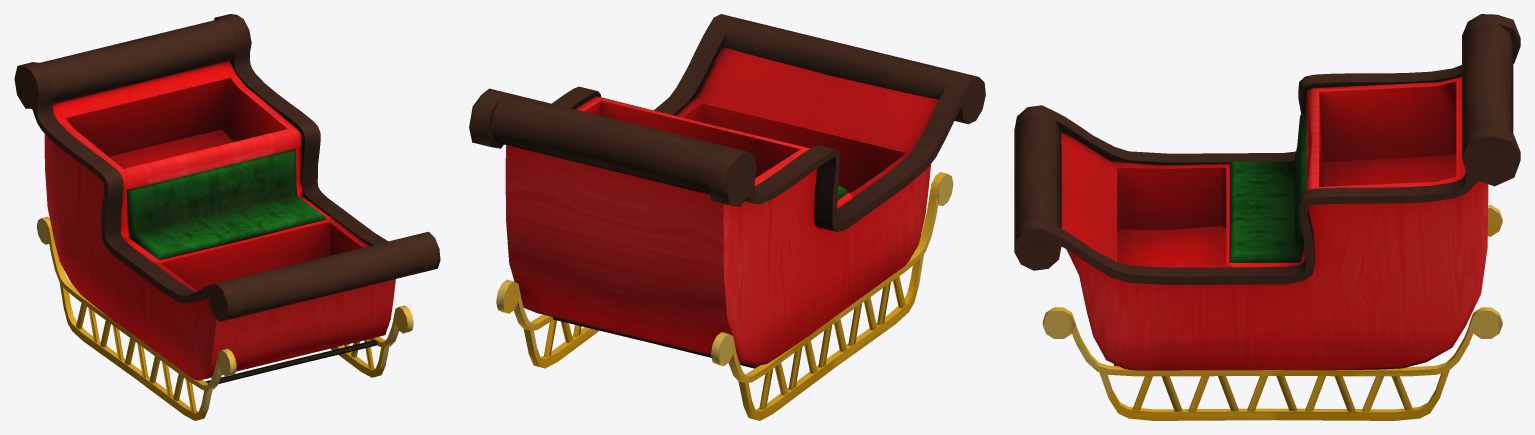
The model's file is SantasSleigh.obj.
3 views of the same model, side by side, from view 1: azimuth 30°, elevation 25°; view 2: azimuth 150°, elevation 25°; view 3: azimuth 270°, elevation 25° (orthographic). The views are drawn at different scales.
Parts seen in each view (by area): view 1: Handle1; view 2: Handle1; view 3: Handle1.
Boxes of the visible parts, left/top/right/bottom form: Handle1: left=14, top=14, right=440, bottom=420; Handle1: left=469, top=14, right=985, bottom=420; Handle1: left=1014, top=14, right=1520, bottom=420.
Bounding box in the file's own units: 2.03 × 2.25 × 3.53.
1 material, 1 textured.
